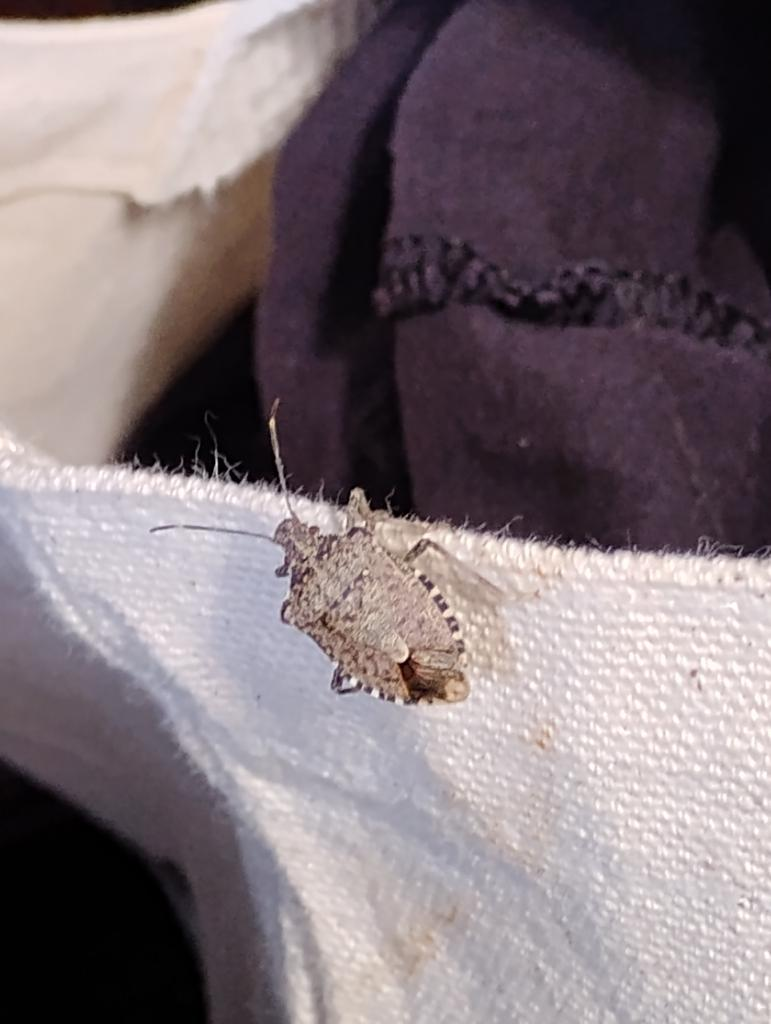stink_bugs: (116, 380, 527, 749)
